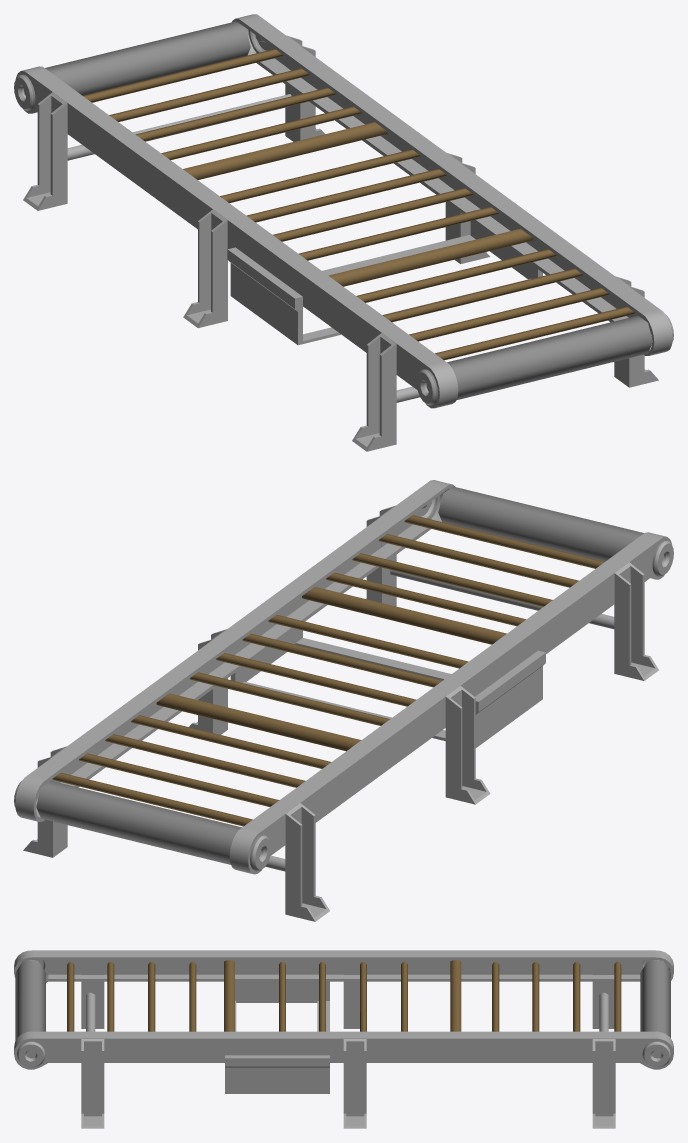
File: SM_ProdLine_transporter_h.FBX
3 views of the same model, one above another, from view 1: azimuth 30°, elevation 25°; view 2: azimuth 150°, elevation 25°; view 3: azimuth 270°, elevation 25° (orthographic). The views are drawn at different scales.
Parts seen in each view (by area): view 1: SM_ProdLine_transporter_h_LOD0; view 2: SM_ProdLine_transporter_h_LOD0; view 3: SM_ProdLine_transporter_h_LOD0.
Boxes of the visible parts, x1,y1,x2,y2 form: SM_ProdLine_transporter_h_LOD0: (14, 14, 673, 451); SM_ProdLine_transporter_h_LOD0: (14, 480, 673, 921); SM_ProdLine_transporter_h_LOD0: (14, 950, 673, 1128).
Size of what is drawn, in the model's own units: 149 by 376 by 49.27.
